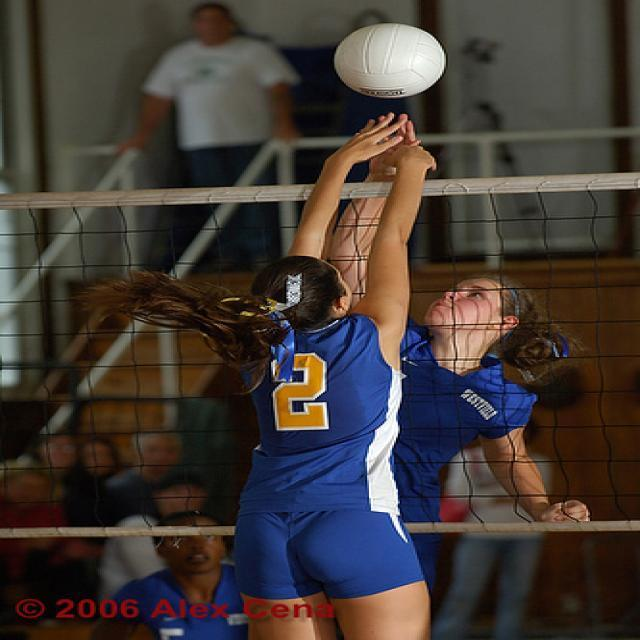volleyball: (339, 22, 446, 98)
